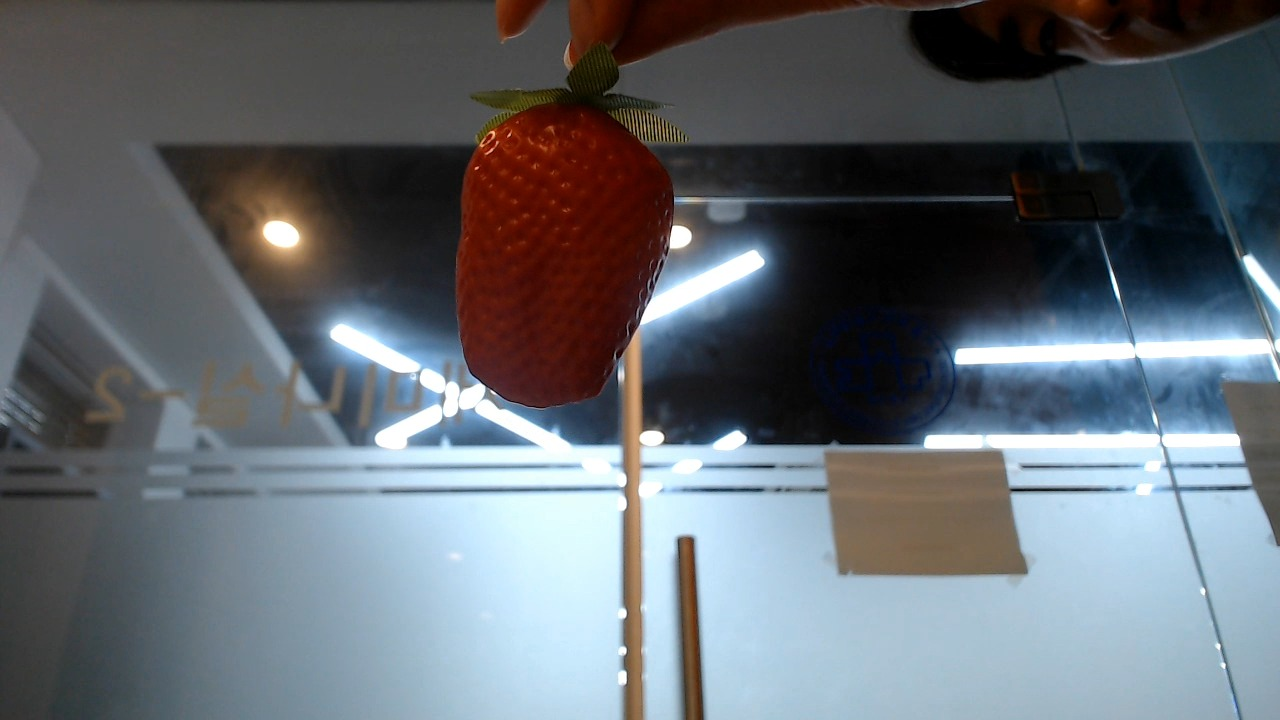strawberry: (455, 83, 674, 404)
